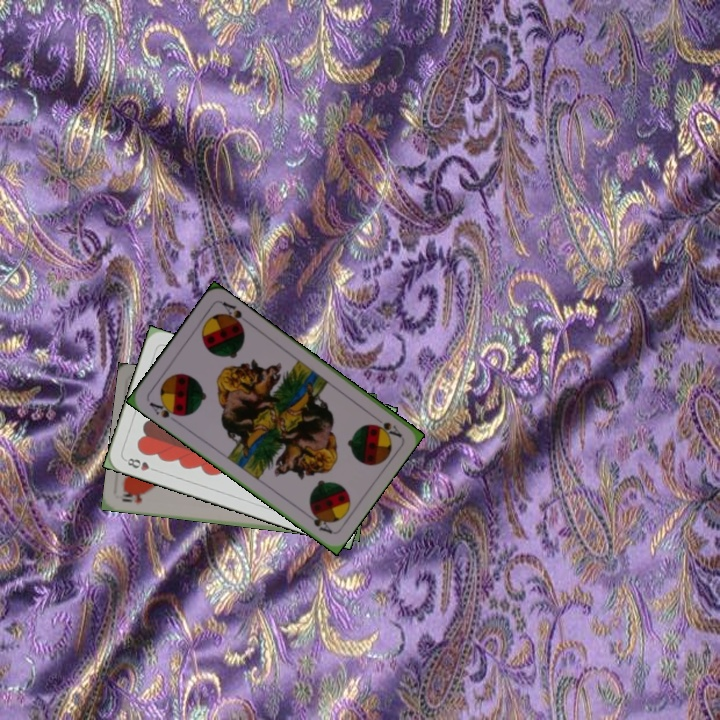H8: (121, 454, 160, 474)
HO: (118, 488, 148, 506)
SA: (145, 398, 184, 421), (370, 418, 404, 440)
